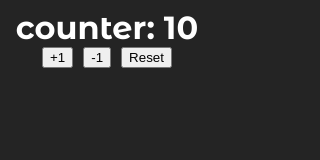
it: MyCounterApp › Should decrement the counter
The image size is (320, 160).
Click the button "-1". click: click(97, 58)
box: [83,47,111,68]
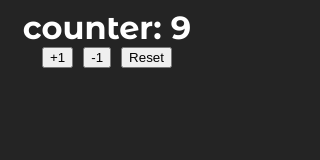
expect the heading reads "counter: 9": met, box [23,8,191,47]
